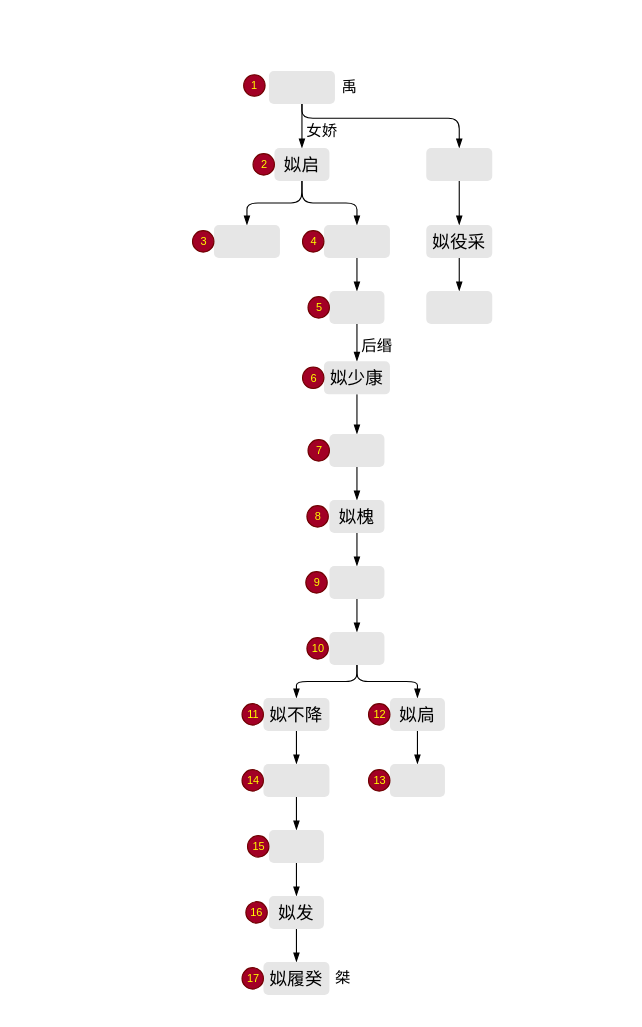
Image size: 642x1027. Some labels were removed from this diagram. The centre of each missing label's shape, as x and y in pixels:
姒中康: (356,240)
姒予: (356,449)
姒修鞈: (459,306)
姒厪: (416,779)
姒均国: (459,163)
姒太康: (246,240)
姒孔甲: (296,779)
姒文命: (301,86)
姒泄: (356,647)
姒皋: (295,845)
姒相: (356,306)
姒芒: (356,581)
